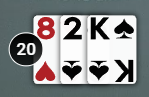2: (60, 15, 87, 43)
8: (31, 15, 60, 42)
k: (86, 14, 112, 42)
